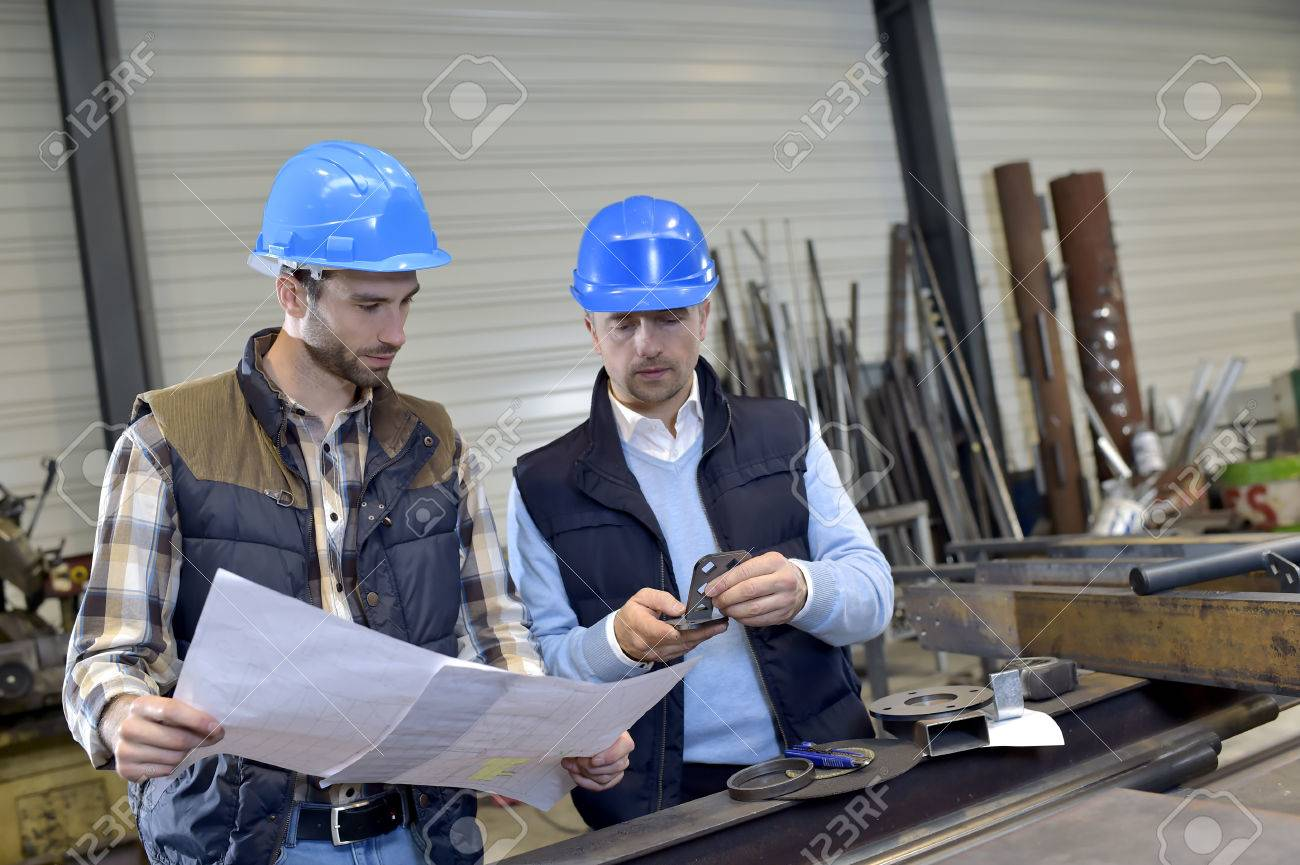casco: (243, 136, 455, 281), (567, 193, 723, 313)
